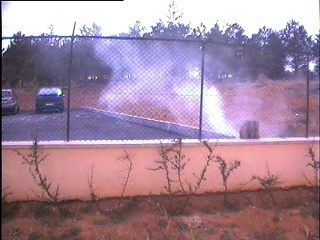smoke: (93, 30, 241, 139)
